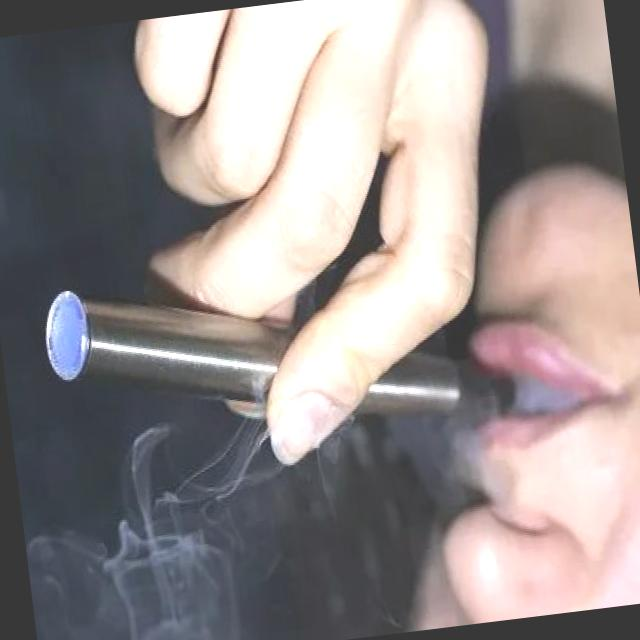smoke: (32, 224, 523, 499)
